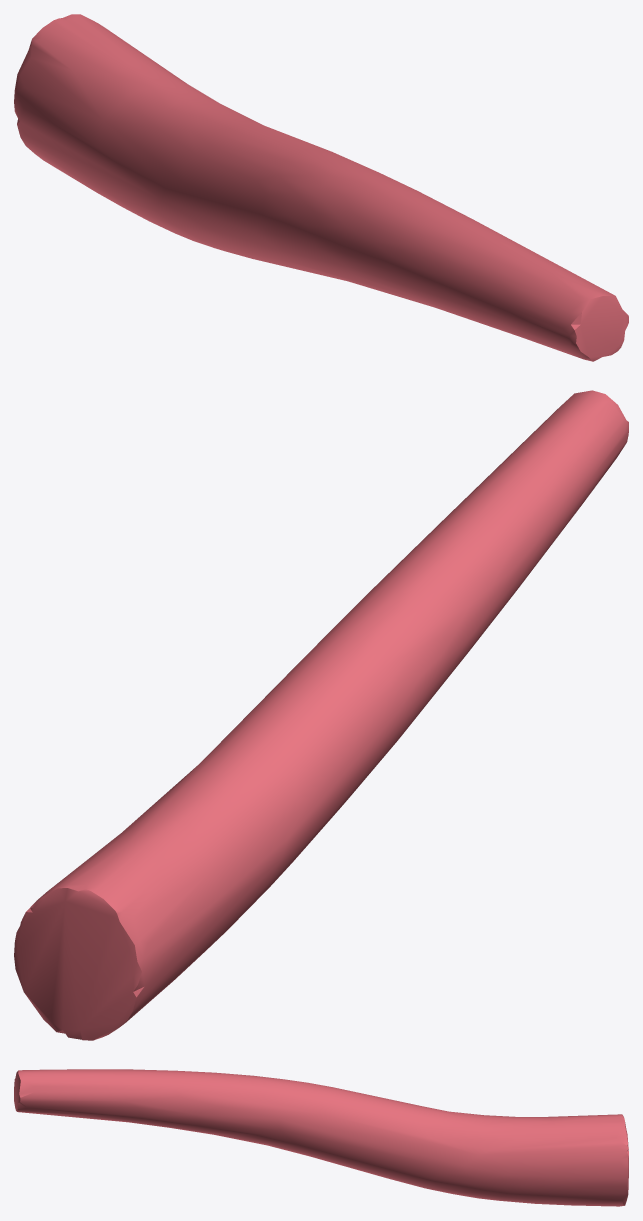
File: fma8617_fj6086.glb
3 renders of one model, top to bottom at view 1: azimuth 30°, elevation 25°; view 2: azimuth 150°, elevation 25°; view 3: azimuth 270°, elevation 25°, orthographic. The views are drawn at different scales.
Visible parts, largest first — view 1: FMA8617_FJ6086; view 2: FMA8617_FJ6086; view 3: FMA8617_FJ6086.
Boxes of the visible parts, x1=… form: FMA8617_FJ6086: x1=14, y1=14, x2=628, y2=361; FMA8617_FJ6086: x1=14, y1=390, x2=628, y2=1040; FMA8617_FJ6086: x1=14, y1=1069, x2=628, y2=1206.
Size of the model in its own units: 0.00341 by 0.00649 by 0.0263.
